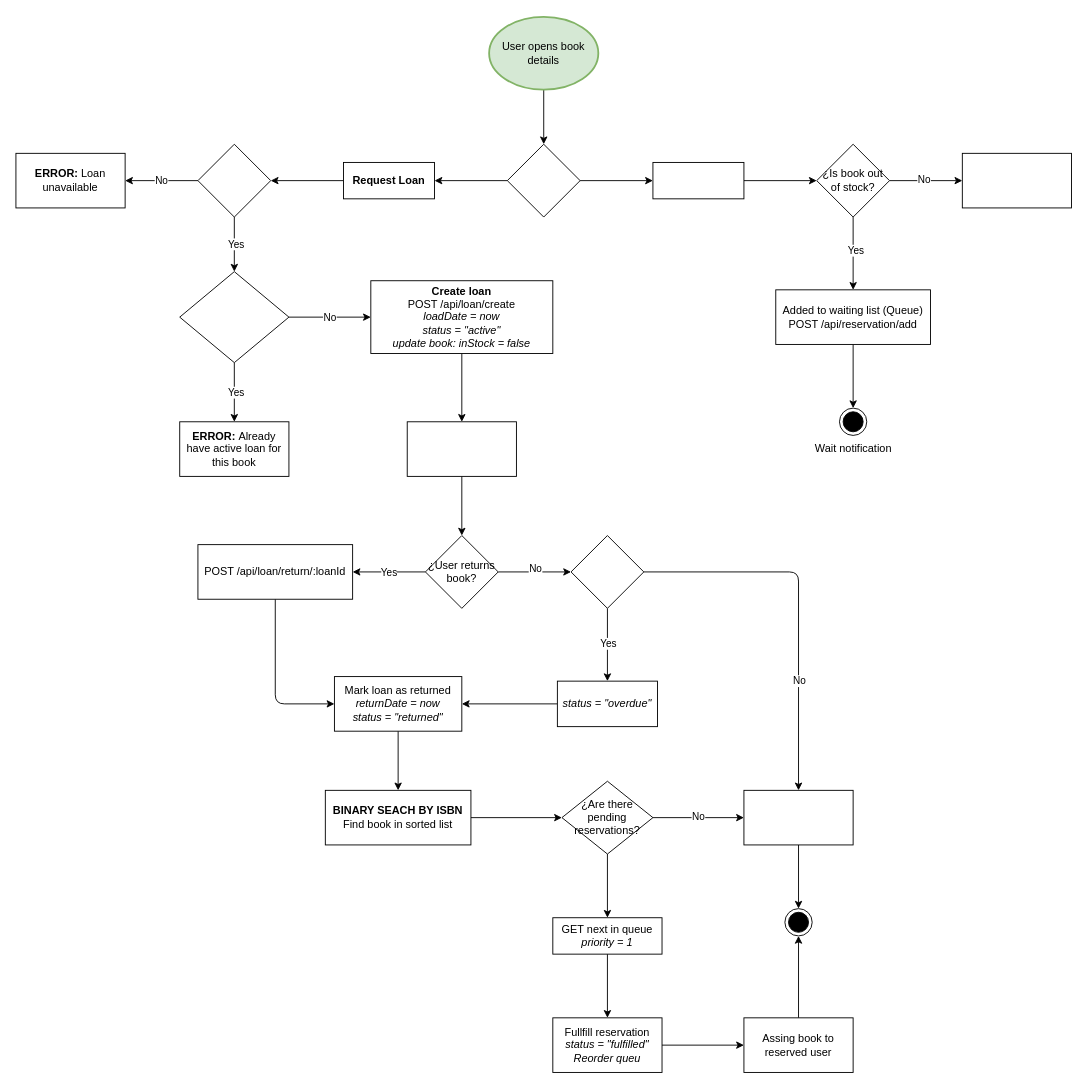
Image size: 1087x1088. Some labels were removed from this diagram. Each missing label, with the centre of its shape:
ERROR: Book is in stock, loan or purchase directly: the point at 1016,180
LOAN ACTIVE User has teh book: the point at 461,448
Reserve Book: the point at 698,180
Update book stock inStock = true: the point at 798,817
¿Does user have active loan for this book?: the point at 234,317
¿Due date passed?: the point at 607,571
¿Is book in stock?: the point at 234,180
¿What does user wants?: the point at 543,180
